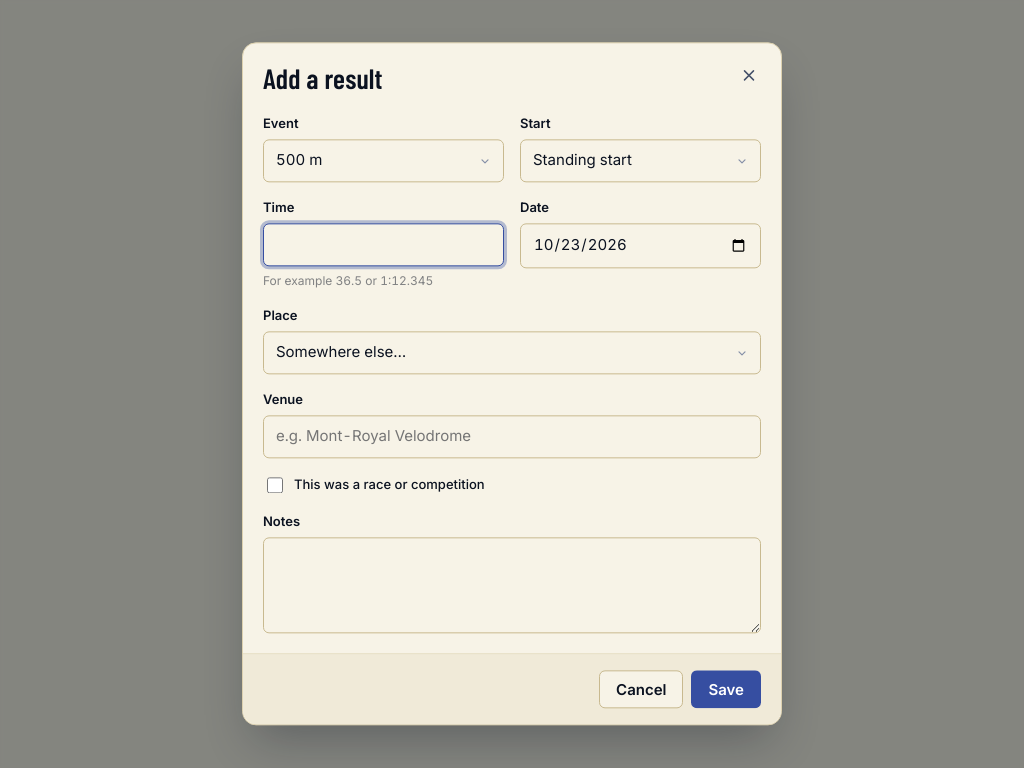
ManualResultDialog › asks for a venue when there's no track to pick, and a 200 is only flying
This screenshot has width=1024, height=768.
Expected: the field labelled "Venue" is shown, [263,416,761,458]
In the field labelled "Time": (384, 245) [263,224,504,266], type "36.5"
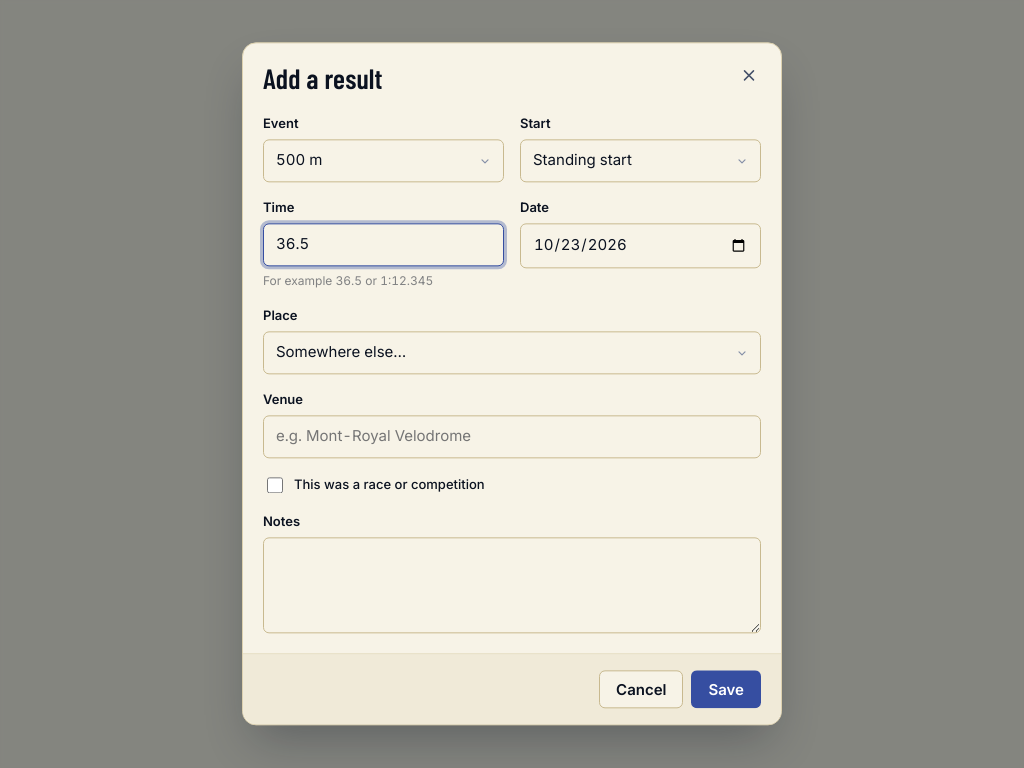
Click the button "Save": (726, 690) [692,671,761,709]
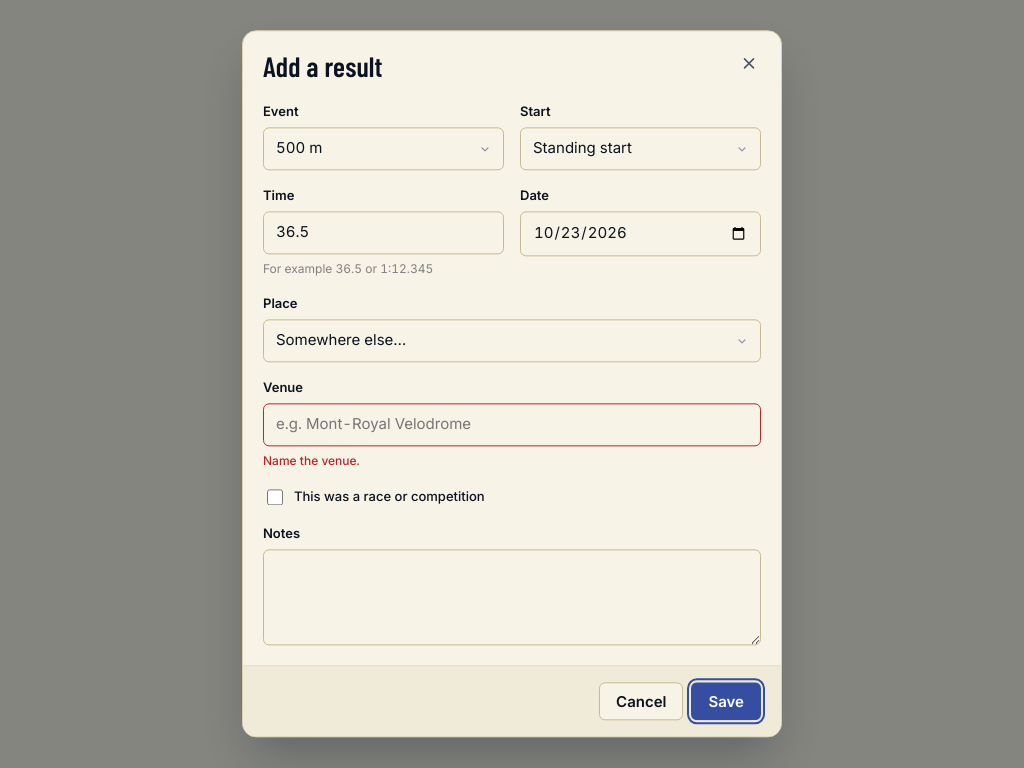
Result: the text "Name the venue." is shown at [263,453,360,468]
Select "Flying 200" in the dropdown labelled "Event": (384, 149) [263,128,504,170]
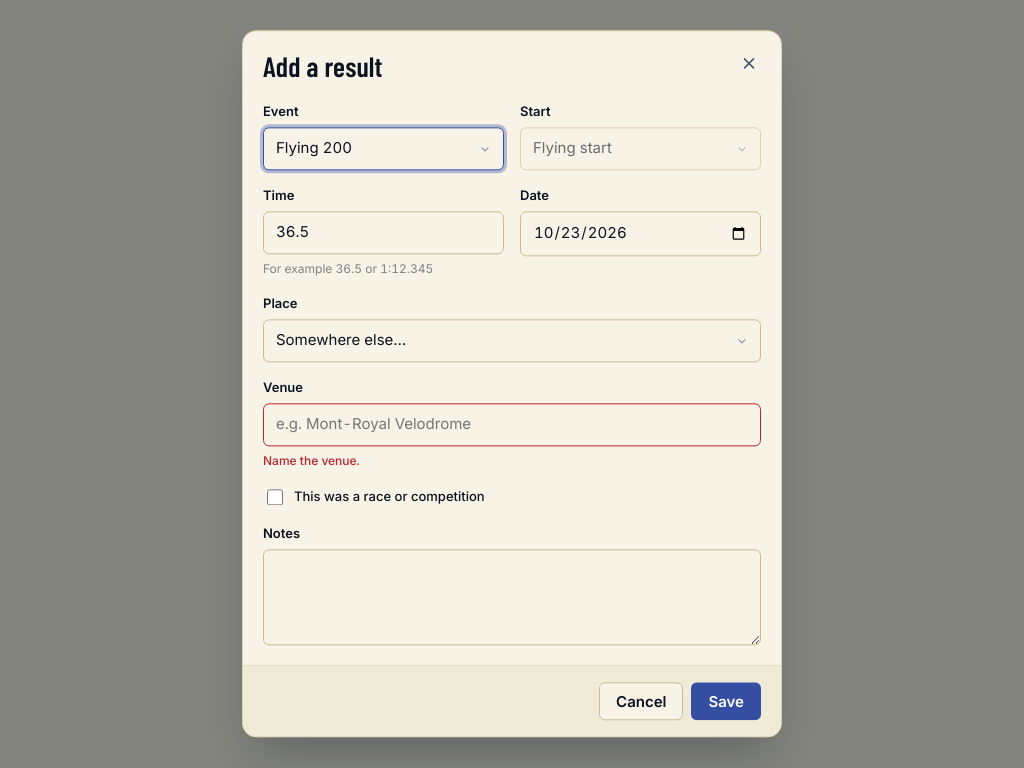
Result: the dropdown labelled "Start" is disabled at [520,128,761,170]
Result: the dropdown labelled "Start" shows "Flying start" at [520,128,761,170]
